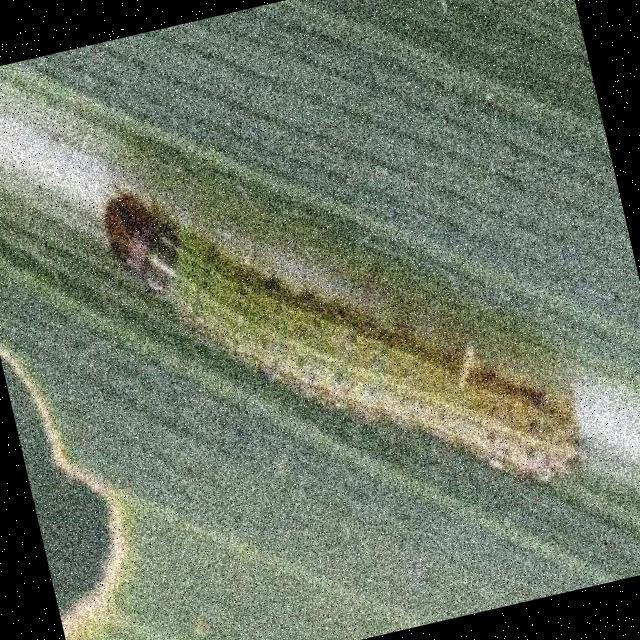worm: (95, 105, 592, 572), (97, 185, 192, 307)
